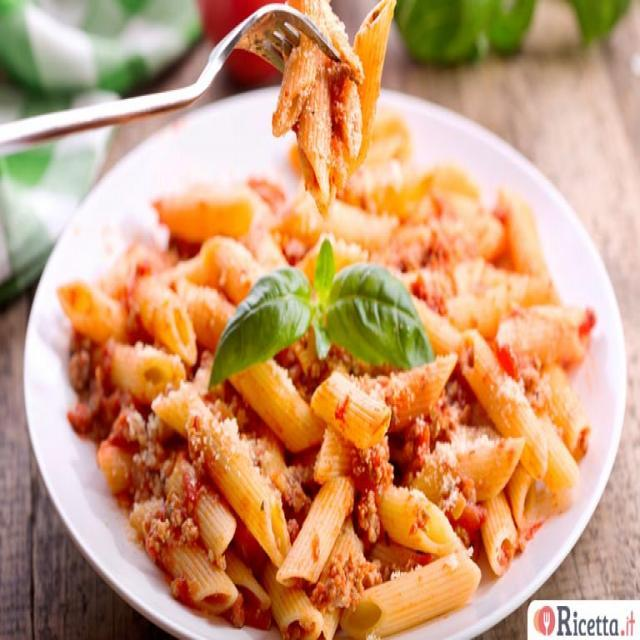Pasta al ragu: (79, 134, 574, 568)
